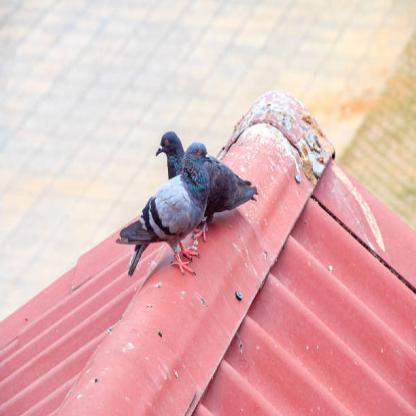Flying Rat: (159, 123, 261, 212), (133, 149, 205, 265)
